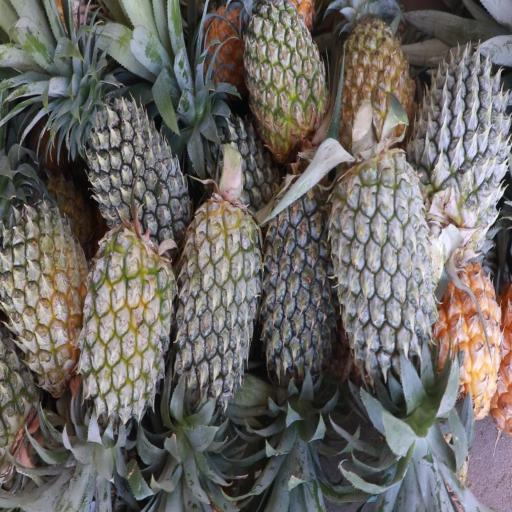------------------------------: (84, 232, 176, 426), (2, 194, 88, 388), (244, 2, 328, 153), (340, 2, 415, 150)
Pineapple - v8 v1: (432, 268, 510, 414)
